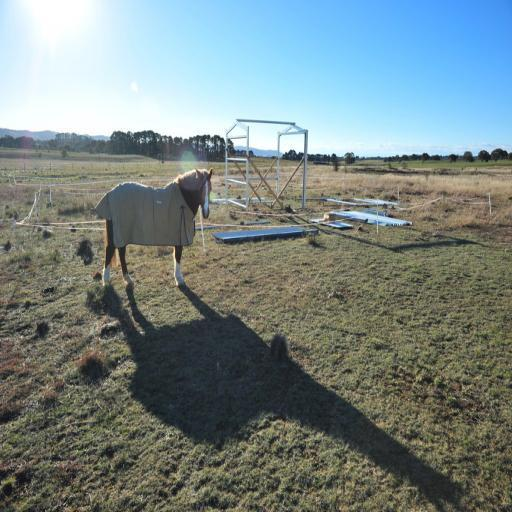horse: (101, 167, 214, 291)
